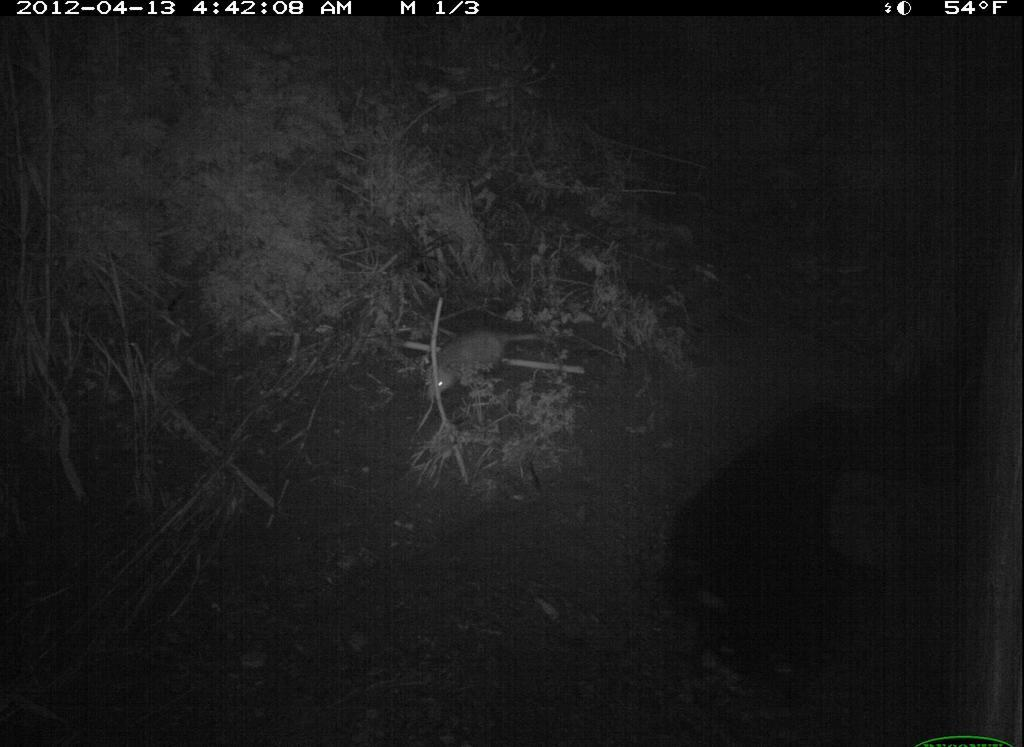opossum: (402, 319, 545, 406)
